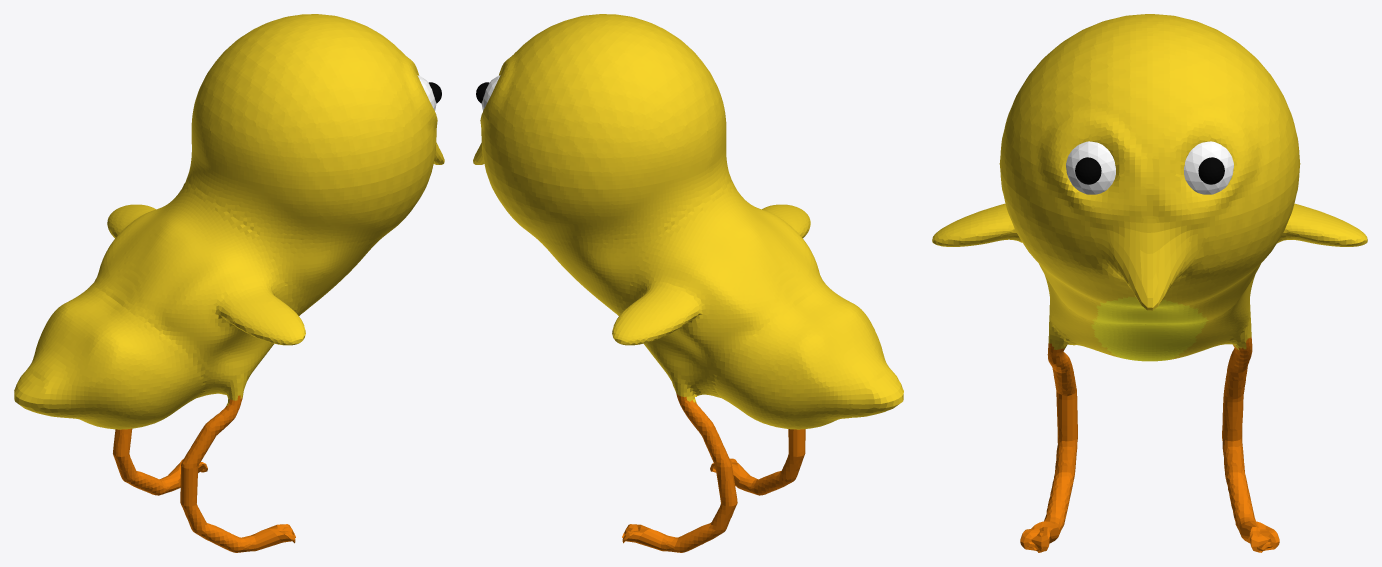
Rendered from duck1test.fbx.
The picture shows the model from 3 angles, left to right: view 1: azimuth 30°, elevation 25°; view 2: azimuth 150°, elevation 25°; view 3: azimuth 270°, elevation 25°; orthographic projection. The views are drawn at different scales.
Visible parts, largest first — view 1: Icosphere; view 2: Icosphere; view 3: Icosphere.
Part boxes in pixels (x1,y1,x2,y2): Icosphere: [14, 14, 444, 552]; Icosphere: [473, 14, 903, 552]; Icosphere: [932, 14, 1367, 552].
Size of the model in its own units: 1639 by 1726 by 1193.
1 material, 1 textured.
